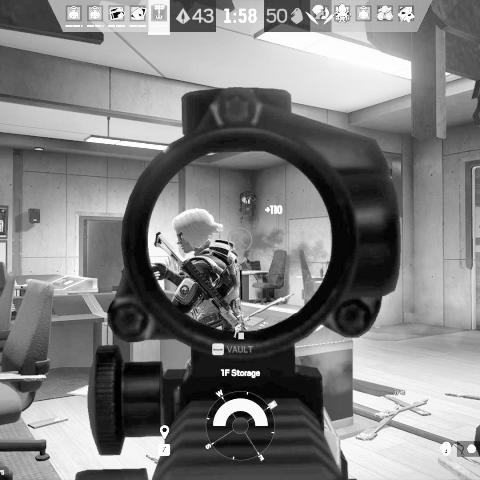Character: (152, 208, 249, 336)
Head: (172, 208, 223, 255)
